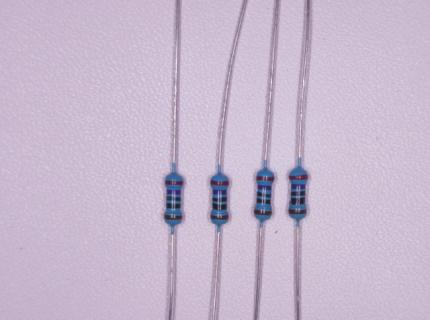Black band: (291, 197, 305, 205), (212, 203, 227, 210), (257, 198, 270, 205), (167, 203, 181, 209), (257, 191, 271, 197), (212, 197, 227, 202), (291, 191, 306, 196), (166, 196, 180, 201)
Brown band: (288, 209, 307, 215), (211, 214, 230, 220), (254, 209, 272, 215), (164, 214, 182, 220)
Red band: (210, 179, 229, 185), (256, 175, 274, 181), (164, 180, 183, 185), (289, 175, 308, 180)
Violet band: (213, 189, 227, 195), (291, 184, 306, 189), (167, 190, 181, 195), (258, 185, 271, 190)
